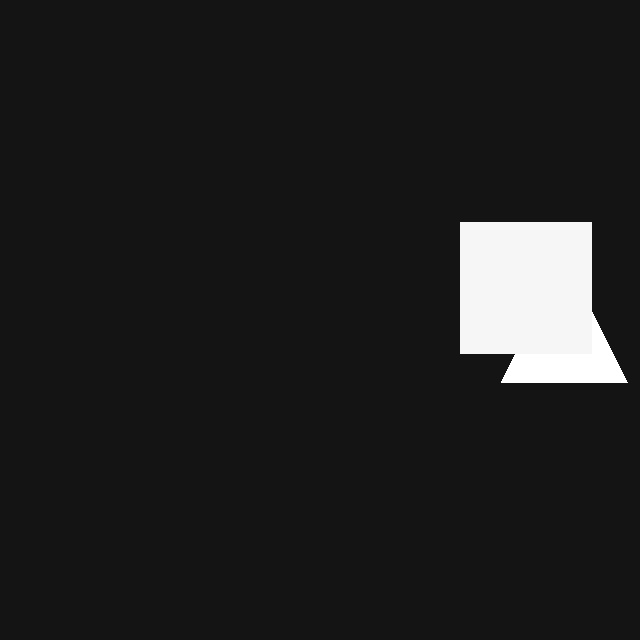square: (460, 222, 591, 353)
triangle: (501, 256, 627, 382)
